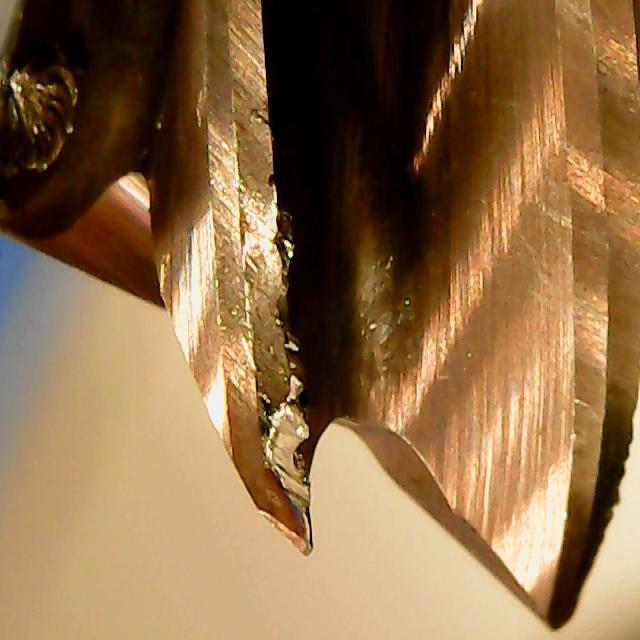Tool-wear-class-2: (151, 254, 339, 568)
